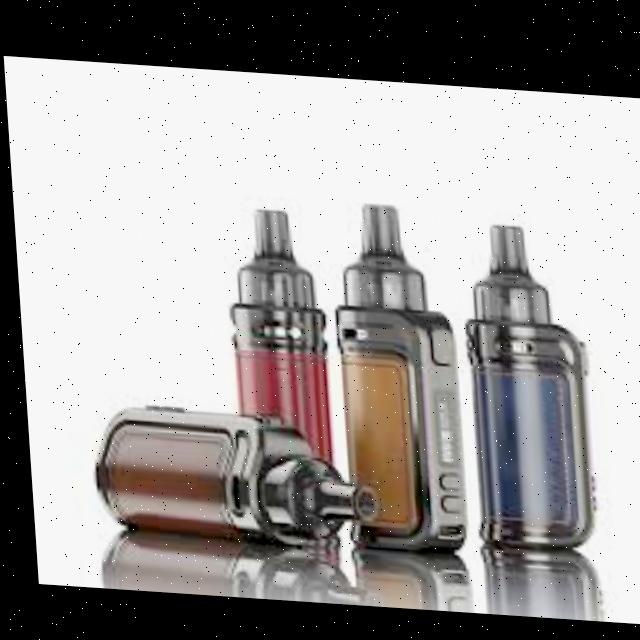vape: (327, 199, 463, 551), (455, 217, 595, 546), (83, 398, 376, 547), (219, 203, 332, 530)
